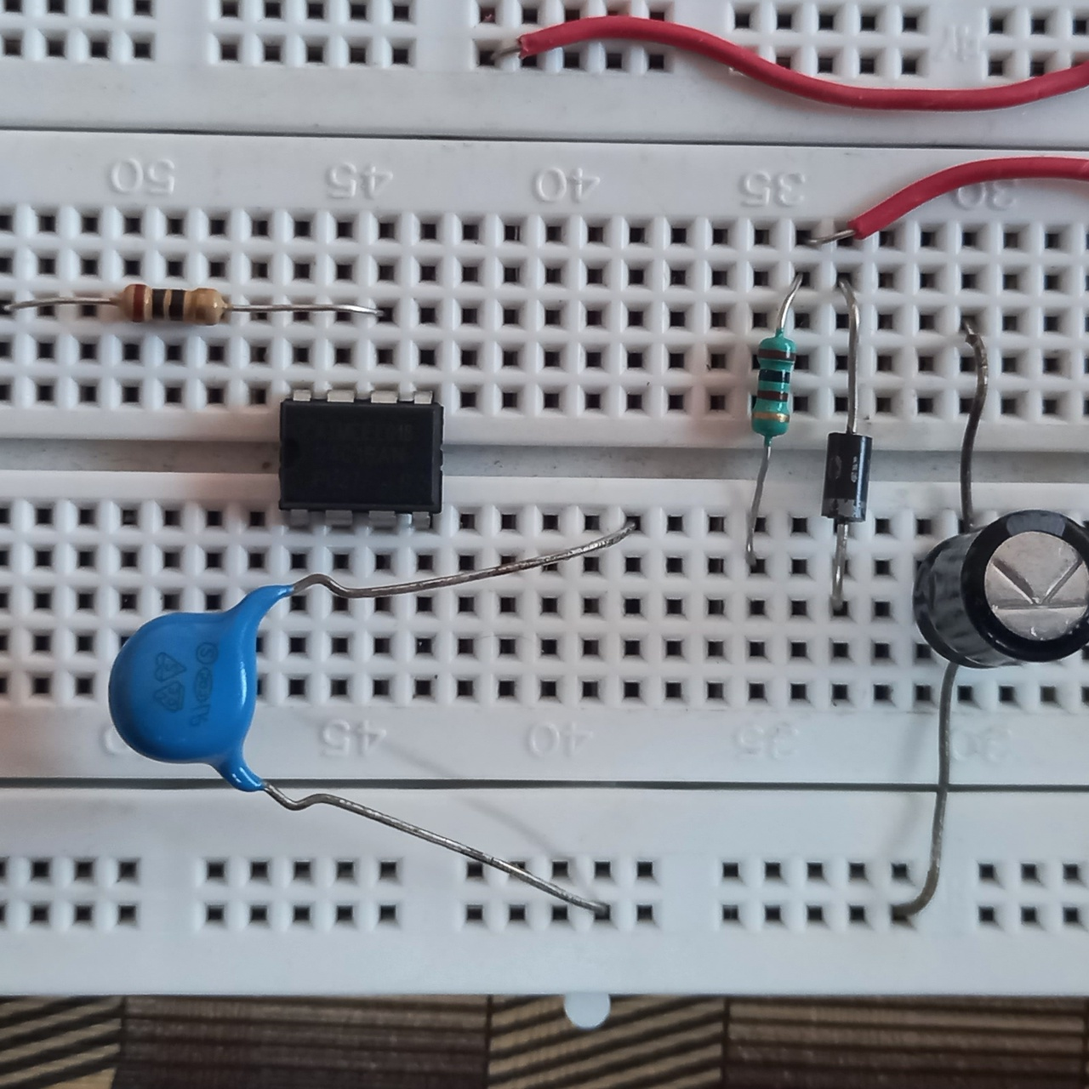capacitor: (104, 575, 341, 804), (913, 509, 1089, 674)
resistor: (108, 280, 240, 334), (743, 323, 795, 449)
